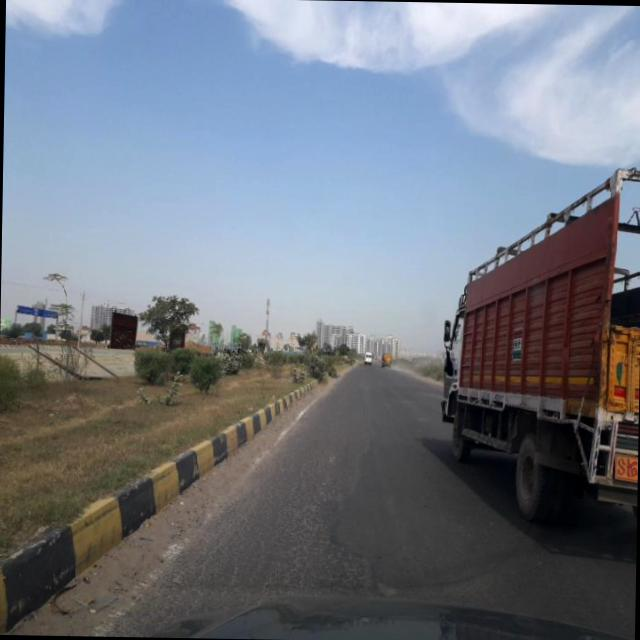crack: (140, 440, 357, 607)
